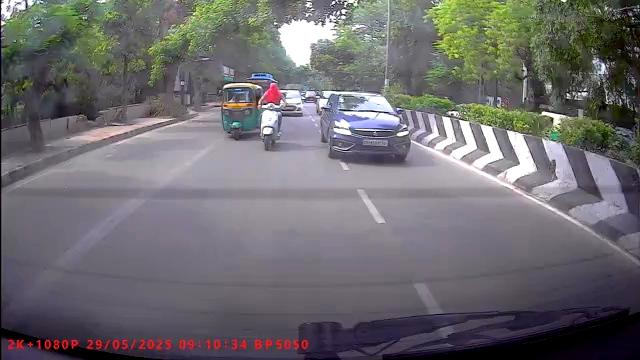motorcycle_without_helmet: (258, 80, 284, 152)
